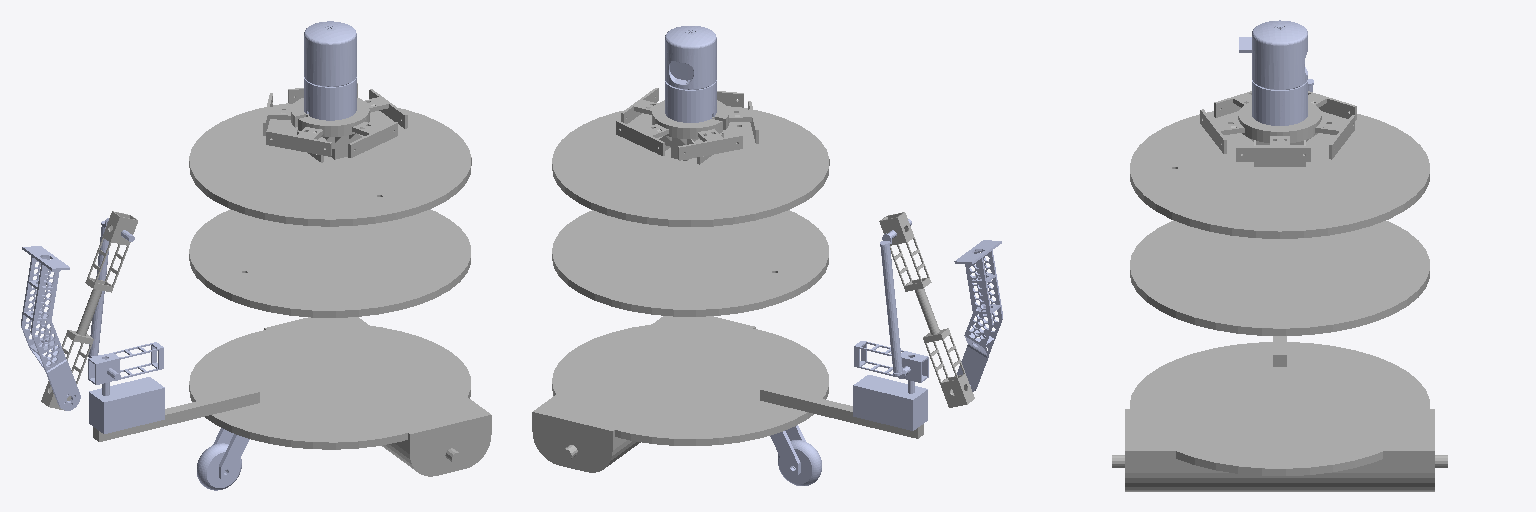
--- Render facts (derived) ---
Views: 3 orthographic renders of the robot side by side, from view 1: azimuth 30°, elevation 25°; view 2: azimuth 150°, elevation 25°; view 3: azimuth 270°, elevation 25°.
Model BeobotV3_arm with 19 links and 18 joints (8 continuous, 10 fixed), rooted at dummy_link, posed every joint at zero.
Visible links, largest first — view 1: base_link, Velodine, hand, arm_base, arm_link_3, arm_link_1, Caster Wheel, arm_link_2, Caster; view 2: base_link, Velodine, hand, arm_link_3, arm_base, arm_link_2, arm_link_1, Caster Wheel, Caster; view 3: base_link, Velodine.
Link boxes in pixels (<box>): base_link: <box>93,83,491,476</box>; Velodine: <box>304,21,356,120</box>; hand: <box>21,246,80,410</box>; arm_base: <box>89,377,164,433</box>; arm_link_3: <box>41,211,137,410</box>; arm_link_1: <box>88,342,163,384</box>; Caster Wheel: <box>197,443,241,490</box>; arm_link_2: <box>88,218,134,380</box>; Caster: <box>213,428,249,478</box>; base_link: <box>532,88,923,472</box>; Velodine: <box>665,26,716,122</box>; hand: <box>954,240,1002,391</box>; arm_link_3: <box>879,212,974,407</box>; arm_base: <box>853,375,927,430</box>; arm_link_2: <box>880,219,911,378</box>; arm_link_1: <box>854,341,928,382</box>; Caster Wheel: <box>778,440,821,485</box>; Caster: <box>770,425,805,474</box>; base_link: <box>1112,91,1447,491</box>; Velodine: <box>1252,20,1307,125</box>.
Size in the robot's own frame: 0.8049 by 0.5107 by 0.7741 metres.
Meshes: 17 distinct files referenced, 9 mesh visuals loaded (9 binary STL); not drawn: 8 (reference not matched to a file when rendering).

robot.urdf — BeobotV3_arm:
<?xml version="1.0" encoding="utf-8" ?>
<!-- This URDF was automatically created by SolidWorks to URDF Exporter! Originally created by Stephen Brawner ([email redacted])
     Commit Version: 1.6.0-1-g15f4949  Build Version: 1.6.7594.29634
     For more information, please see http://wiki.ros.org/sw_urdf_exporter -->
<robot name="BeobotV3_arm">
    <link name="dummy_link" />

    <joint name="base_joint" type="fixed">
        <parent link="dummy_link"/>
        <child link="base_link"/>
    </joint>

    <link name="base_link">
        <inertial>
            <origin xyz="-0.0513796483314814 1.27686246397941E-05 0.154161121120295" rpy="0 0 0" />
            <mass value="12.4988329835437" />
            <inertia
              ixx="0.190447730971708"
              ixy="-3.70126486766833E-19"
              ixz="-3.56567450144756E-06"
              iyy="0.0959949202608751"
              iyz="-4.42207493744835E-18"
              izz="0.279604557022315" />
        </inertial>
        <visual>
            <origin xyz="0 0 0" rpy="0 0 0" />
            <geometry>
                <mesh filename="package://BeobotV3_arm/meshes/base_link.STL" />
            </geometry>
            <material name="">
                <color rgba="0.752941176470588 0.752941176470588 0.752941176470588 1" />
            </material>
        </visual>
        <collision>
            <origin xyz="0 0 0" rpy="0 0 0" />
            <geometry>
                <mesh filename="package://BeobotV3_arm/meshes/base_link.STL" />
            </geometry>
        </collision>
    </link>

    <link name="Caster">
        <inertial>
            <origin xyz="-1.03705565233938E-08 0.00204796069316782 -0.0181187425534225" rpy="0 0 0" />
            <mass value="0.0611311091677911" />
            <inertia
              ixx="7.0957616596077E-05"
              ixy="-4.91476686853458E-12"
              ixz="5.15091026246723E-13"
              iyy="3.74419469168325E-05"
              iyz="-2.74890550626252E-05"
              izz="6.96806050757074E-05" />
        </inertial>
        <visual>
            <origin xyz="0 0 0" rpy="0 0 0" />
            <geometry>
                <mesh filename="package://BeobotV3_arm/meshes/Caster.STL" />
            </geometry>
            <material name="">
                <color rgba="0.792156862745098 0.819607843137255 0.933333333333333 1" />
            </material>
        </visual>
        <collision>
            <origin xyz="0 0 0" rpy="0 0 0" />
            <geometry>
                <mesh filename="package://BeobotV3_arm/meshes/Caster.STL" />
            </geometry>
        </collision>
    </link>
    <joint name="Caster Joint" type="continuous">
        <origin xyz="-0.2489 0 0" rpy="1.5708 0 1.5708" />
        <parent link="base_link" />
        <child link="Caster" />
        <axis xyz="0 1 0" />
    </joint>

    <link name="Caster Wheel">
        <inertial>
            <origin xyz="-1.95818296572367E-18 1.38777878078145E-17 2.77555756156289E-17" rpy="0 0 0" />
            <mass value="0.122723274685531" />
            <inertia
              ixx="8.9933192980841E-05"
              ixy="7.96184638024659E-22"
              ixz="-1.11135394881533E-37"
              iyy="5.21169087044883E-05"
              iyz="4.30690035800385E-38"
              izz="5.21169087044883E-05" />
        </inertial>
        <visual>
            <origin xyz="0 0 0" rpy="0 0 0" />
            <geometry>
                <mesh filename="package://BeobotV3_arm/meshes/Caster Wheel.STL" />
            </geometry>
            <material name="">
                <color rgba="0.792156862745098 0.819607843137255 0.933333333333333 1" />
            </material>
        </visual>
        <collision>
            <origin xyz="0 0 0" rpy="0 0 0" />
            <geometry>
                <mesh filename="package://BeobotV3_arm/meshes/Caster Wheel.STL" />
            </geometry>
        </collision>
    </link>
    <joint name="CWheel Joint" type="continuous">
        <origin xyz="0 -0.049142 -0.047513" rpy="3.1416 0 0" />
        <parent link="Caster" />
        <child link="Caster Wheel" />
        <axis xyz="1 0 0" />
    </joint>

    <link name="left_wheel">
        <inertial>
            <origin xyz="0 0 0.025" rpy="0 0 0" />
            <mass value="0.963877503284561" />
            <inertia
              ixx="0.00173116001505925"
              ixy="9.09442722940398E-37"
              ixz="7.05860789378559E-22"
              iyy="0.00173116001505925"
              iyz="7.62310521474892E-37"
              izz="0.00310961165234764" />
        </inertial>
        <visual>
            <origin xyz="0 0 0" rpy="0 0 0" />
            <geometry>
                <mesh filename="package://BeobotV3_arm/meshes/left_wheel.STL" />
                <!-- <cylinder radius="0.84" length="0.05"/> -->
            </geometry>
            <material name="">
                <color rgba="0.792156862745098 0.819607843137255 0.933333333333333 1" />
            </material>
        </visual>
        <collision>
            <origin xyz="0 0 0" rpy="0 0 0" />
            <geometry>
                <mesh filename="package://BeobotV3_arm/meshes/left_wheel.STL" />
                <!-- <cylinder radius="0.84" length="0.05"/> -->
            </geometry>
        </collision>
    </link>
    <joint name="left_wheel_joint" type="continuous">
        <origin xyz="0 0.23535 0" rpy="1.5707963267949 0 3.14159265358979" />
        <parent link="base_link" />
        <child link="left_wheel" />
        <axis xyz="0 0 1" />
    </joint>

    <link name="right_wheel">
        <inertial>
            <origin xyz="0 1.38777878078145E-17 -0.025" rpy="0 0 0" />
            <mass value="0.963877503284561" />
            <inertia
              ixx="0.00173116001505925"
              ixy="-5.14894137640762E-36"
              ixz="-1.30593527677662E-21"
              iyy="0.00173116001505925"
              iyz="5.86567729539708E-36"
              izz="0.00310961165234764" />
        </inertial>
        <visual>
            <origin xyz="0 0 0" rpy="0 0 0" />
            <geometry>
                <mesh filename="package://BeobotV3_arm/meshes/right_wheel.STL" />
                <!-- <cylinder radius="0.84" length="0.05"/> -->
            </geometry>
            <material name="">
                <color rgba="0.792156862745098 0.819607843137255 0.933333333333333 1" />
            </material>
        </visual>
        <collision>
            <origin xyz="0 0 0" rpy="0 0 0" />
            <geometry>
                <mesh filename="package://BeobotV3_arm/meshes/right_wheel.STL" />
                <!-- <cylinder radius="0.84" length="0.05"/> -->
            </geometry>
        </collision>
    </link>
    <joint name="right_wheel_joint" type="continuous">
        <origin xyz="0 -0.23535 0" rpy="1.5707963267949 0 3.14159265358979" />
        <parent link="base_link" />
        <child link="right_wheel" />
        <axis xyz="0 0 1" />
    </joint>

    <link name="Velodine">
        <inertial>
            <origin xyz="-0.0300853928488499 -0.40091478715411 4.60923484674456E-05" rpy="0 0 0" />
            <mass value="15.9569652334539" />
            <inertia
              ixx="0.838303568674409"
              ixy="-0.0931515890792136"
              ixz="-7.72771481615878E-05"
              iyy="0.598322340884611"
              iyz="-0.000188634938311251"
              izz="0.793423845349092" />
        </inertial>
        <visual>
            <origin xyz="0 0 0" rpy="0 0 0" />
            <geometry>
                <mesh filename="package://BeobotV3_arm/meshes/Velodine.STL" />
            </geometry>
            <material name="">
                <color rgba="0.792156862745098 0.819607843137255 0.933333333333333 1" />
            </material>
        </visual>
        <collision>
            <origin xyz="0 0 0" rpy="0 0 0" />
            <geometry>
                <mesh filename="package://BeobotV3_arm/meshes/Velodine.STL" />
            </geometry>
        </collision>
    </link>
    <joint name="Velodine_joint" type="fixed">
        <origin xyz="-0.0889 0 0.5403395" rpy="1.5707963267949 0 3.14159265358979" />
        <parent link="base_link" />
        <child link="Velodine" />
        <axis xyz="0 0 0" />
    </joint>

    <link name="Hokuyo">
        <inertial>
            <origin xyz="9.62077651549171E-13 -0.0104575797147916 1.47756675626387E-05" rpy="0 0 0" />
            <mass value="0.485765672289228" />
            <inertia
              ixx="0.000181662528040023"
              ixy="-9.18790800976449E-15"
              ixz="-3.66339139346828E-18"
              iyy="0.000256014886917181"
              iyz="3.3495514268039E-07"
              izz="0.000181671483298989" />
        </inertial>
        <visual>
            <origin xyz="0 0 0" rpy="0 0 0" />
            <geometry>
                <mesh filename="package://BeobotV3_arm/meshes/Hokuyo.STL" />
            </geometry>
            <material name="">
                <color rgba="0.109803921568627 0.109803921568627 0.109803921568627 1" />
            </material>
        </visual>
        <collision>
            <origin xyz="0 0 0" rpy="0 0 0" />
            <geometry>
                <mesh filename="package://BeobotV3_arm/meshes/Hokuyo.STL" />
            </geometry>
        </collision>
    </link>
    <joint name="Hokuyo_joint" type="fixed">
        <origin xyz="0.1162 0 0.0993875000000001" rpy="1.5707963267949 0 1.5707963267949" />
        <parent link="base_link" />
        <child link="Hokuyo" />
        <axis xyz="0 0 0" />
    </joint>

    <link name="realsense_1">
        <inertial>
            <origin xyz="-0.000390708978352982 6.02138510601979E-05 -0.00789836129246299" rpy="0 0 0" />
            <mass value="0.0640757405654074" />
            <inertia
              ixx="4.56933951019137E-06"
              ixy="1.96370246605674E-08"
              ixz="-1.9640169802707E-08"
              iyy="5.78325356057845E-05"
              iyz="-2.70197585396388E-08"
              izz="6.11005211694262E-05" />
        </inertial>
        <visual>
            <origin xyz="0 0 0" rpy="0 0 0" />
            <geometry>
                <mesh filename="package://BeobotV3_arm/meshes/realsense_1.STL" />
            </geometry>
            <material name="">
                <color rgba="0.752941176470588 0.752941176470588 0.752941176470588 1" />
            </material>
        </visual>
        <collision>
            <origin xyz="0 0 0" rpy="0 0 0" />
            <geometry>
                <mesh filename="package://BeobotV3_arm/meshes/realsense_1.STL" />
            </geometry>
        </collision>
    </link>
    <joint name="realsense_1_joint" type="fixed">
        <origin xyz="0.0422600000000009 -0.0099999999999999 0.5213395" rpy="1.5707963267949 0 1.5707963267949" />
        <parent link="base_link" />
        <child link="realsense_1" />
        <axis xyz="0 0 0" />
    </joint>

    <link name="realsense_2">
        <inertial>
            <origin xyz="-0.0003907344707152 6.02169244577899E-05 -0.00789832167406296" rpy="0 0 0" />
            <mass value="0.0640758147362888" />
            <inertia
              ixx="4.56937172192639E-06"
              ixy="1.96411832233332E-08"
              ixz="-1.96258693886165E-08"
              iyy="5.78324705416839E-05"
              iyz="-2.70181362166153E-08"
              izz="6.11004884271043E-05" />
        </inertial>
        <visual>
            <origin xyz="0 0 0" rpy="0 0 0" />
            <geometry>
                <mesh filename="package://BeobotV3_arm/meshes/realsense_2.STL" />
            </geometry>
            <material name="">
                <color rgba="0.752941176470588 0.752941176470588 0.752941176470588 1" />
            </material>
        </visual>
        <collision>
            <origin xyz="0 0 0" rpy="0 0 0" />
            <geometry>
                <mesh filename="package://BeobotV3_arm/meshes/realsense_2.STL" />
            </geometry>
        </collision>
    </link>
    <joint name="realsense_2_joint" type="fixed">
        <origin xyz="-0.0388587658548304 0.121650402733524 0.5213395" rpy="1.5707963267949 0 2.82743338823082" />
        <parent link="base_link" />
        <child link="realsense_2" />
        <axis xyz="0 0 0" />
    </joint>

    <link name="realsense-3">
        <inertial>
            <origin xyz="-0.000390717782523815 6.02095974349126E-05 -0.00789830234133593" rpy="0 0 0" />
            <mass value="0.0640759792887907" />
            <inertia
              ixx="4.56937429841234E-06"
              ixy="1.96531921961022E-08"
              ixz="-1.96245893701832E-08"
              iyy="5.7832525771276E-05"
              iyz="-2.701548927337E-08"
              izz="6.11005581941919E-05" />
        </inertial>
        <visual>
            <origin xyz="0 0 0" rpy="0 0 0" />
            <geometry>
                <mesh filename="package://BeobotV3_arm/meshes/realsense-3.STL" />
            </geometry>
            <material name="">
                <color rgba="0.752941176470588 0.752941176470588 0.752941176470588 1" />
            </material>
        </visual>
        <collision>
            <origin xyz="0 0 0" rpy="0 0 0" />
            <geometry>
                <mesh filename="package://BeobotV3_arm/meshes/realsense-3.STL" />
            </geometry>
        </collision>
    </link>
    <joint name="realsense_3_joint" type="fixed">
        <origin xyz="-0.189132816459295 0.0851840836344303 0.5213395" rpy="1.5707963267949 0 -2.19911485751285" />
        <parent link="base_link" />
        <child link="realsense-3" />
        <axis xyz="0 0 0" />
    </joint>

    <link name="realsense-4">
        <inertial>
            <origin xyz="-0.000390718620082456 6.02087439376398E-05 -0.00789831183155529" rpy="0 0 0" />
            <mass value="0.064075960036" />
            <inertia
              ixx="4.56937200247722E-06"
              ixy="1.96511360305826E-08"
              ixz="-1.96313922469088E-08"
              iyy="5.78325239716603E-05"
              iyz="-2.70153308879261E-08"
              izz="6.11005586640684E-05" />
        </inertial>
        <visual>
            <origin xyz="0 0 0" rpy="0 0 0" />
            <geometry>
                <mesh filename="package://BeobotV3_arm/meshes/realsense-4.STL" />
            </geometry>
            <material name="">
                <color rgba="0.752941176470588 0.752941176470588 0.752941176470588 1" />
            </material>
        </visual>
        <collision>
            <origin xyz="0 0 0" rpy="0 0 0" />
            <geometry>
                <mesh filename="package://BeobotV3_arm/meshes/realsense-4.STL" />
            </geometry>
        </collision>
    </link>
    <joint name="realsense_4_joint" type="fixed">
        <origin xyz="-0.200888521505143 -0.0690037437469328 0.5213395" rpy="1.5707963267949 0 -0.942477796076929" />
        <parent link="base_link" />
        <child link="realsense-4" />
        <axis xyz="0 0 0" />
    </joint>

    <link name="realsense-5">
        <inertial>
            <origin xyz="-0.00039071868084831 6.02163207615303E-05 -0.00789836156069645" rpy="0 0 0" />
            <mass value="0.0640758098551959" />
            <inertia
              ixx="4.56937014056801E-06"
              ixy="1.96404239093606E-08"
              ixz="-1.96329288000106E-08"
              iyy="5.78325275505255E-05"
              iyz="-2.70155088637995E-08"
              izz="6.11005476079255E-05" />
        </inertial>
        <visual>
            <origin xyz="0 0 0" rpy="0 0 0" />
            <geometry>
                <mesh filename="package://BeobotV3_arm/meshes/realsense-5.STL" />
            </geometry>
            <material name="">
                <color rgba="0.752941176470588 0.752941176470588 0.752941176470588 1" />
            </material>
        </visual>
        <collision>
            <origin xyz="0 0 0" rpy="0 0 0" />
            <geometry>
                <mesh filename="package://BeobotV3_arm/meshes/realsense-5.STL" />
            </geometry>
        </collision>
    </link>
    <joint name="realsense_5_joint" type="fixed">
        <origin xyz="-0.0578798961807318 -0.127830742621022 0.5213395" rpy="1.5707963267949 0 0.314159265358991" />
        <parent link="base_link" />
        <child link="realsense-5" />
        <axis xyz="0 0 0" />
    </joint>

    <link name="arm_base">
        <inertial>
            <origin xyz="0.000546883601580506 -0.000676404986259573 -1.5573062355025E-18" rpy="0 0 0" />
            <mass value="0.323605809581169" />
            <inertia
              ixx="0.000161147613159255"
              ixy="8.44321479741356E-06"
              ixz="1.69584286759297E-21"
              iyy="0.000418295360654488"
              iyz="1.47396249426902E-21"
              izz="0.000450631135476571" />
        </inertial>
        <visual>
            <origin xyz="0 0 0" rpy="0 0 0" />
            <geometry>
                <mesh filename="package://BeobotV3_arm/meshes/arm_base.STL" />
            </geometry>
            <material name="">
                <color rgba="0.792156862745098 0.819607843137255 0.933333333333333 1" />
            </material>
        </visual>
        <collision>
            <origin xyz="0 0 0" rpy="0 0 0" />
            <geometry>
                <mesh filename="package://BeobotV3_arm/meshes/arm_base.STL" />
            </geometry>
        </collision>
    </link>
    <joint name="arm_base_joint" type="fixed">
        <origin xyz="-0.46908 0 0.1007725" rpy="-1.5707963267949 0 3.14159265358979" />
        <parent link="base_link" />
        <child link="arm_base" />
        <axis xyz="0 0 0" />
    </joint>

    <link name="arm_link_1">
        <inertial>
            <origin xyz="1.47728109962052E-17 -0.019 -0.0227815027756187" rpy="0 0 0" />
            <mass value="0.0178646986447077" />
            <inertia
              ixx="3.44196286692544E-05"
              ixy="-2.32644547280539E-22"
              ixz="5.19287322199649E-21"
              iyy="3.24160176753155E-05"
              iyz="2.39613298606533E-21"
              izz="5.52910048182246E-06" />
        </inertial>
        <visual>
            <origin xyz="0 0 0" rpy="0 0 0" />
            <geometry>
                <mesh filename="package://BeobotV3_arm/meshes/arm_link_1.STL" />
            </geometry>
            <material name="">
                <color rgba="0.792156862745098 0.819607843137255 0.933333333333333 1" />
            </material>
        </visual>
        <collision>
            <origin xyz="0 0 0" rpy="0 0 0" />
            <geometry>
                <mesh filename="package://BeobotV3_arm/meshes/arm_link_1.STL" />
            </geometry>
        </collision>
    </link>
    <joint name="arm_joint_1" type="continuous">
        <origin xyz="0.03912 -0.055925 0" rpy="0 1.5707963267949 0" />
        <parent link="arm_base" />
        <child link="arm_link_1" />
        <axis xyz="0 1 0" />
        <dynamics damping="0.5" friction="0.0"/>
    </joint>

    <link name="arm_link_2">
        <inertial>
            <origin xyz="-0.121 -0.0307964899121853 -1.11022302462516E-16" rpy="0 0 0" />
            <mass value="0.0649301185542533" />
            <inertia
              ixx="3.22586635547296E-05"
              ixy="-2.47234192565917E-19"
              ixz="-6.92449434380391E-20"
              iyy="0.000476962065829218"
              iyz="-1.21028203335921E-20"
              izz="0.000507342791034516" />
        </inertial>
        <visual>
            <origin xyz="0 0 0" rpy="0 0 0" />
            <geometry>
                <mesh filename="package://BeobotV3_arm/meshes/arm_link_2.STL" />
            </geometry>
            <material name="">
                <color rgba="0.792156862745098 0.819607843137255 0.933333333333333 1" />
            </material>
        </visual>
        <collision>
            <origin xyz="0 0 0" rpy="0 0 0" />
            <geometry>
                <mesh filename="package://BeobotV3_arm/meshes/arm_link_2.STL" />
            </geometry>
        </collision>
    </link>
    <joint name="arm_joint_2" type="continuous">
        <origin xyz="0 -0.019 0" rpy="0 -0.109072359195873 1.5707963267949" />
        <parent link="arm_link_1" />
        <child link="arm_link_2" />
        <axis xyz="0 1 0" />
        <dynamics damping="0.5" friction="0.0"/>
    </joint>

    <link name="arm_link_3">
        <inertial>
            <origin xyz="1.65844061205124E-17 0 -0.14258" rpy="0 0 0" />
            <mass value="0.0575915155354546" />
            <inertia
              ixx="8.87747106609759E-05"
              ixy="4.55303185773157E-21"
              ixz="2.6323171148936E-21"
              iyy="8.44653798915301E-05"
              iyz="6.26804380968182E-20"
              izz="1.22592484459501E-05" />
        </inertial>
        <visual>
            <origin xyz="0 0 0" rpy="0 0 0" />
            <geometry>
                <mesh filename="package://BeobotV3_arm/meshes/arm_link_3.STL" />
            </geometry>
            <material name="">
                <color rgba="0.752941176470588 0.752941176470588 0.752941176470588 1" />
            </material>
        </visual>
        <collision>
            <origin xyz="0 0 0" rpy="0 0 0" />
            <geometry>
                <mesh filename="package://BeobotV3_arm/meshes/arm_link_3.STL" />
            </geometry>
        </collision>
    </link>
    <joint name="arm_joint_3" type="continuous">
        <origin xyz="-0.242 0 0" rpy="1.86868906869276 0 -1.5707963267949" />
        <parent link="arm_link_2" />
        <child link="arm_link_3" />
        <axis xyz="1 0 0" />
        <dynamics damping="0.5" friction="0.0"/>
    </joint>

    <link name="hand">
        <inertial>
            <origin xyz="-0.136178264835158 -0.0169303769012779 -0.0186384219718446" rpy="0 0 0" />
            <mass value="0.07638618840621" />
            <inertia
              ixx="7.13119994044157E-05"
              ixy="-0.00012051566228187"
              ixz="3.87785049449802E-05"
              iyy="0.000543690574797547"
              iyz="6.36829910880985E-06"
              izz="0.00056893703526882" />
        </inertial>
        <visual>
            <origin xyz="0 0 0" rpy="0 0 0" />
            <geometry>
                <mesh filename="package://BeobotV3_arm/meshes/hand.STL" />
            </geometry>
            <material name="">
                <color rgba="0.792156862745098 0.819607843137255 0.933333333333333 1" />
            </material>
        </visual>
        <collision>
            <origin xyz="0 0 0" rpy="0 0 0" />
            <geometry>
                <mesh filename="package://BeobotV3_arm/meshes/hand.STL" />
            </geometry>
        </collision>
    </link>
    <joint name="hand_joint" type="continuous">
        <origin xyz="0 0 -0.28516" rpy="-1.5707963267949 0.812050775618667 -1.5707963267949" />
        <parent link="arm_link_3" />
        <child link="hand" />
        <axis xyz="0 0 1" />
        <dynamics damping="0.5" friction="0.0"/>
    </joint>

    <link name="hand_tip">
        <!-- FIXME: dummy mass and collision added to not get ignored by gazebo and moveit -->
        <inertial>
            <origin xyz="0 0 0" rpy="0 0 0" />
            <mass value="0.001" />
            <inertia ixx="0.001" ixy="0" ixz="0" iyy="0.001" iyz="0" izz="0.001" />
        </inertial>
        <visual>
            <origin xyz="0 0 0" rpy="0 0 0.45" />
            <geometry>
                <box size="0.001 0.001 0.001" />
            </geometry>
            <material name="">
                <color rgba="0.792156862745098 0.819607843137255 0.933333333333333 1" />
            </material>
        </visual>
        <collision>
            <origin xyz="0 0 0" rpy="0 0 0.45" />
            <geometry>
                <box size="0.001 0.001 0.001" />
            </geometry>
        </collision>
    </link>
    <joint name="hand_tip_joint" type="fixed">
        <origin xyz="-0.25 -0.06 -0.01" rpy="0 0 0" />
        <parent link="hand" />
        <child link="hand_tip" />
        <axis xyz="0 0 0" />
    </joint>

    <transmission name="trans_left_wheel_joint">
        <type>transmission_interface/SimpleTransmission</type>
        <joint name="left_wheel_joint">
            <hardwareInterface>hardware_interface/VelocityJointInterface</hardwareInterface>
        </joint>
        <actuator name="left_wheel_joint_motor">
            <hardwareInterface>hardware_interface/VelocityJointInterface</hardwareInterface>
            <mechanicalReduction>1</mechanicalReduction>
        </actuator>
    </transmission>
    <transmission name="trans_right_wheel_joint">
        <type>transmission_interface/SimpleTransmission</type>
        <joint name="right_wheel_joint">
            <hardwareInterface>hardware_interface/VelocityJointInterface</hardwareInterface>
        </joint>
        <actuator name="right_wheel_joint_motor">
            <hardwareInterface>hardware_interface/VelocityJointInterface</hardwareInterface>
            <mechanicalReduction>1</mechanicalReduction>
        </actuator>
    </transmission>
    <transmission name="trans_arm_joint_1">
        <type>transmission_interface/SimpleTransmission</type>
        <joint name="arm_joint_1">
            <hardwareInterface>hardware_interface/PositionJointInterface</hardwareInterface>
        </joint>
        <actuator name="arm_joint_1_motor">
            <hardwareInterface>hardware_interface/PositionJointInterface</hardwareInterface>
            <mechanicalReduction>1</mechanicalReduction>
        </actuator>
    </transmission>
    <transmission name="trans_arm_joint_2">
        <type>transmission_interface/SimpleTransmission</type>
        <joint name="arm_joint_2">
            <hardwareInterface>hardware_interface/PositionJointInterface</hardwareInterface>
        </joint>
        <actuator name="arm_joint_2_motor">
            <hardwareInterface>hardware_interface/PositionJointInterface</hardwareInterface>
            <mechanicalReduction>1</mechanicalReduction>
        </actuator>
    </transmission>
    <transmission name="trans_arm_joint_3">
        <type>transmission_interface/SimpleTransmission</type>
        <joint name="arm_joint_3">
            <hardwareInterface>hardware_interface/PositionJointInterface</hardwareInterface>
        </joint>
        <actuator name="arm_joint_3_motor">
            <hardwareInterface>hardware_interface/PositionJointInterface</hardwareInterface>
            <mechanicalReduction>1</mechanicalReduction>
        </actuator>
    </transmission>
    <transmission name="trans_hand_joint">
        <type>transmission_interface/SimpleTransmission</type>
        <joint name="hand_joint">
            <hardwareInterface>hardware_interface/PositionJointInterface</hardwareInterface>
        </joint>
        <actuator name="hand_joint_motor">
            <hardwareInterface>hardware_interface/PositionJointInterface</hardwareInterface>
            <mechanicalReduction>1</mechanicalReduction>
        </actuator>
    </transmission>

    <gazebo reference="base_link">
        <sensor name='base_link_contact' type='contact'>
            <update_rate> 50 </update_rate>
            <always_on>true</always_on>
            <contact>
                <collision>dummy_link_fixed_joint_lump__base_link_collision</collision>
            </contact>
            <plugin name="ros_bumper_0" filename="libgazebo_ros_bumper.so">
                <bumperTopicName>base_link_collision</bumperTopicName>
                <frameName>base_link</frameName>
            </plugin>
        </sensor>
    </gazebo>

    <gazebo reference="arm_link_1">
        <sensor name='arm_link_1_contact' type='contact'>
            <update_rate> 50 </update_rate>
            <always_on>true</always_on>
            <contact>
                <collision>arm_link_1_collision</collision>
            </contact>
            <plugin name="ros_bumper_0" filename="libgazebo_ros_bumper.so">
                <bumperTopicName>arm_link1_collision</bumperTopicName>
                <frameName>arm_link_1</frameName>
            </plugin>
        </sensor>
    </gazebo>

    <gazebo reference="arm_link_2">
        <sensor name='arm_link_2_contact' type='contact'>
            <update_rate> 50 </update_rate>
            <always_on>true</always_on>
            <contact>
                <collision>arm_link_2_collision</collision>
            </contact>
            <plugin name="ros_bumper_1" filename="libgazebo_ros_bumper.so">
                <bumperTopicName>arm_link2_collision</bumperTopicName>
                <frameName>arm_link_2</frameName>
            </plugin>
        </sensor>
    </gazebo>

    <gazebo reference="arm_link_3">
        <sensor name='arm_link_3_contact' type='contact'>
            <update_rate> 50 </update_rate>
            <always_on>true</always_on>
            <contact>
                <collision>arm_link_3_collision</collision>
            </contact>
            <plugin name="ros_bumper_2" filename="libgazebo_ros_bumper.so">
                <bumperTopicName>arm_link3_collision</bumperTopicName>
                <frameName>arm_link_3</frameName>
            </plugin>
        </sensor>
    </gazebo>

    <gazebo reference="hand">
        <sensor name='hand_contact' type='contact'>
            <update_rate> 50 </update_rate>
            <always_on>true</always_on>
            <contact>
                <collision>hand_collision</collision>
            </contact>
            <plugin name="ros_bumper_3" filename="libgazebo_ros_bumper.so">
                <bumperTopicName>hand_collision</bumperTopicName>
                <frameName>hand</frameName>
            </plugin>
        </sensor>
    </gazebo>

    <!-- FIXME: bumper sensor for base_link; currently not implemented because of caster wheel -->

    <!-- base_link includes caster wheel, so should have no friction -->
    <gazebo reference="base_link">
        <mu1 value="0.0"/>
        <mu2 value="0.0"/>
        <kp value="10000000.0" />
        <kd value="1.0" />
        <fdir1 value="1 0 0"/>
        <turnGravityOff>false</turnGravityOff>
    </gazebo>
    <gazebo reference="left_wheel">
        <mu1 value="1.0"/>
        <mu2 value="1.0"/>
        <kp value="10000000.0" />
        <kd value="1.0" />
        <fdir1 value="1 0 0"/>
        <turnGravityOff>false</turnGravityOff>
    </gazebo>
    <gazebo reference="right_wheel">
        <mu1 value="1.0"/>
        <mu2 value="1.0"/>
        <kp value="10000000.0" />
        <kd value="1.0" />
        <fdir1 value="1 0 0"/>
        <turnGravityOff>false</turnGravityOff>
    </gazebo>
    <gazebo>
        <plugin name="gazebo_ros_control" filename="libgazebo_ros_control.so">
            <robotNamespace>/</robotNamespace>
        </plugin>
    </gazebo>
</robot>
